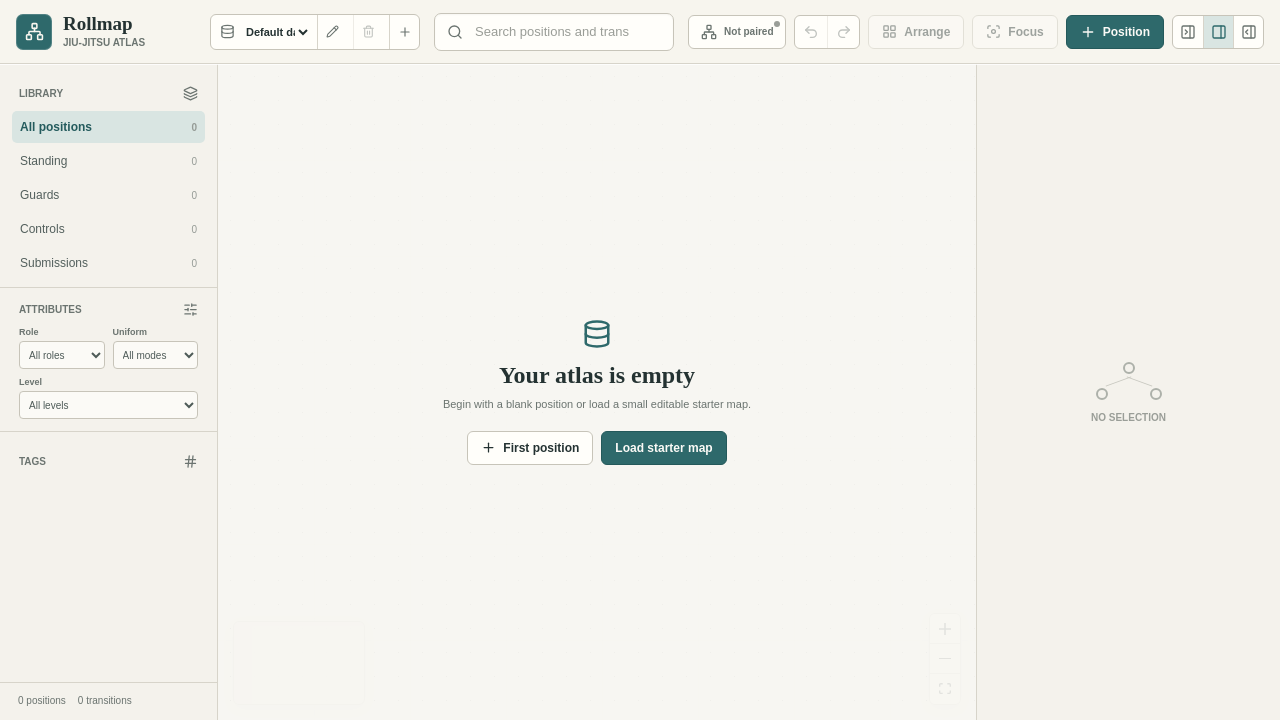
Test: application shell › opens device sync from the toolbar
Click the button with aria-label "Sync devices: Not paired".
click(737, 32)  # box [688,14,786,48]
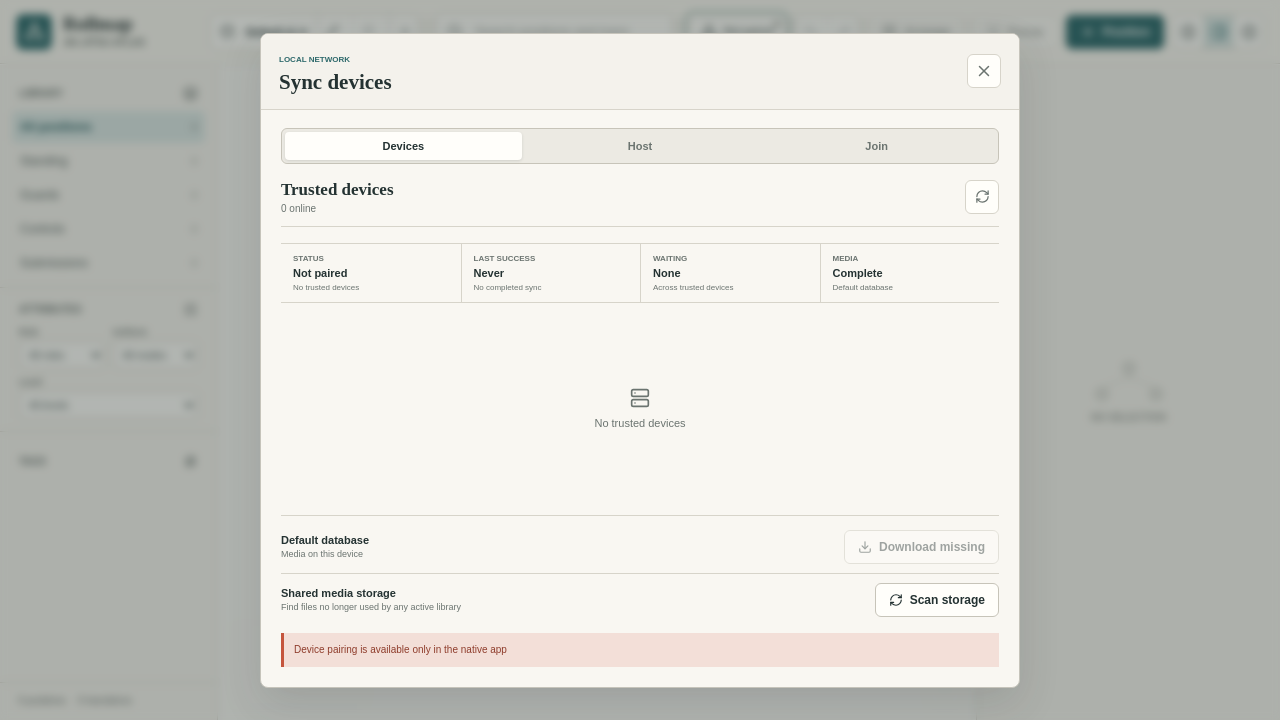
Check: the dialog "Sync devices" is shown, box [260,32,1020,688]
